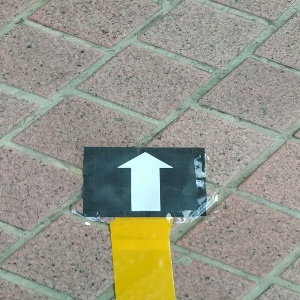straight: (83, 147, 206, 218)
